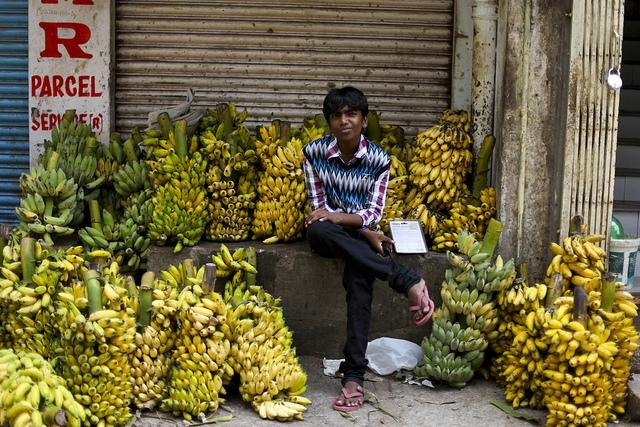banana: (8, 375, 36, 393), (13, 383, 33, 405), (168, 264, 182, 290), (614, 302, 638, 317), (18, 367, 43, 381), (34, 266, 63, 278), (236, 260, 259, 274), (232, 107, 248, 127), (34, 178, 50, 198), (77, 155, 88, 184), (85, 227, 107, 241), (614, 298, 639, 310), (102, 208, 114, 232), (408, 204, 427, 219), (256, 326, 276, 340), (30, 385, 40, 412), (1, 286, 20, 300), (512, 284, 524, 306), (428, 212, 438, 238), (563, 235, 575, 256), (190, 306, 214, 316), (436, 183, 448, 203), (34, 191, 44, 214), (125, 164, 136, 184), (572, 330, 594, 340), (568, 262, 590, 272), (56, 293, 74, 305), (595, 346, 613, 358), (232, 248, 247, 262), (15, 304, 34, 315), (283, 145, 294, 164), (46, 176, 56, 196), (584, 234, 606, 243), (205, 337, 218, 352), (20, 316, 36, 328), (190, 352, 206, 364), (454, 167, 462, 191), (96, 316, 112, 328), (294, 138, 304, 157), (468, 288, 478, 307), (18, 296, 38, 305), (248, 340, 258, 358), (142, 330, 152, 348), (134, 172, 144, 190), (586, 350, 598, 364), (82, 322, 96, 334), (309, 125, 318, 143), (260, 125, 269, 143), (198, 158, 208, 174), (193, 334, 201, 354), (464, 326, 474, 342), (612, 331, 628, 341), (98, 352, 111, 364), (86, 356, 100, 367), (422, 354, 433, 368), (132, 203, 140, 222), (434, 172, 442, 191), (262, 370, 270, 389), (509, 348, 524, 358), (484, 309, 496, 321), (201, 352, 213, 364), (414, 164, 426, 176), (578, 352, 590, 364), (74, 298, 88, 308), (456, 330, 466, 344), (189, 375, 199, 389), (40, 366, 50, 380), (197, 362, 211, 372), (242, 381, 252, 395), (260, 362, 270, 376), (462, 300, 472, 314), (160, 164, 177, 172), (74, 122, 83, 137), (293, 192, 302, 207), (389, 155, 398, 170), (243, 357, 252, 372), (32, 334, 45, 344), (552, 333, 562, 346), (283, 363, 291, 379), (125, 234, 133, 250), (440, 167, 448, 183), (456, 298, 464, 314), (588, 316, 596, 332), (496, 254, 503, 272), (281, 161, 295, 170), (479, 196, 490, 207), (431, 155, 442, 166), (221, 148, 231, 160), (266, 347, 274, 362), (442, 110, 462, 116), (268, 199, 276, 214), (532, 374, 542, 386), (246, 170, 256, 182), (90, 366, 102, 376), (552, 373, 564, 383), (118, 358, 130, 368), (269, 124, 276, 140), (528, 359, 536, 373), (266, 162, 274, 176), (394, 146, 402, 160), (162, 315, 170, 329), (240, 368, 247, 384), (396, 162, 404, 176), (157, 352, 166, 364), (186, 391, 194, 404), (96, 384, 106, 394), (106, 372, 116, 382), (580, 376, 590, 386), (442, 232, 453, 241), (594, 394, 606, 402), (274, 219, 282, 231), (166, 280, 178, 288), (385, 211, 397, 219), (72, 246, 84, 254), (176, 214, 184, 226), (576, 406, 584, 418), (273, 208, 280, 221), (185, 199, 192, 212), (440, 142, 450, 151), (146, 379, 154, 390), (527, 328, 538, 336), (142, 372, 150, 383), (147, 364, 154, 376), (150, 346, 157, 358), (474, 207, 484, 215), (561, 394, 569, 404), (166, 155, 174, 165), (391, 204, 401, 212), (459, 216, 469, 224), (578, 256, 588, 264), (258, 301, 269, 308), (488, 208, 497, 216), (220, 180, 227, 190), (624, 326, 637, 331), (394, 178, 402, 186), (222, 143, 230, 151), (520, 296, 526, 306), (253, 173, 260, 181), (236, 230, 244, 237), (226, 209, 233, 217), (290, 137, 296, 146), (602, 373, 608, 382), (235, 202, 242, 209), (118, 241, 125, 248), (188, 212, 194, 220), (310, 124, 316, 132), (276, 138, 282, 146), (152, 168, 158, 176), (20, 395, 26, 402), (392, 195, 398, 202), (303, 209, 308, 217), (75, 135, 80, 143), (620, 378, 628, 382), (194, 266, 196, 278), (54, 258, 56, 262)
